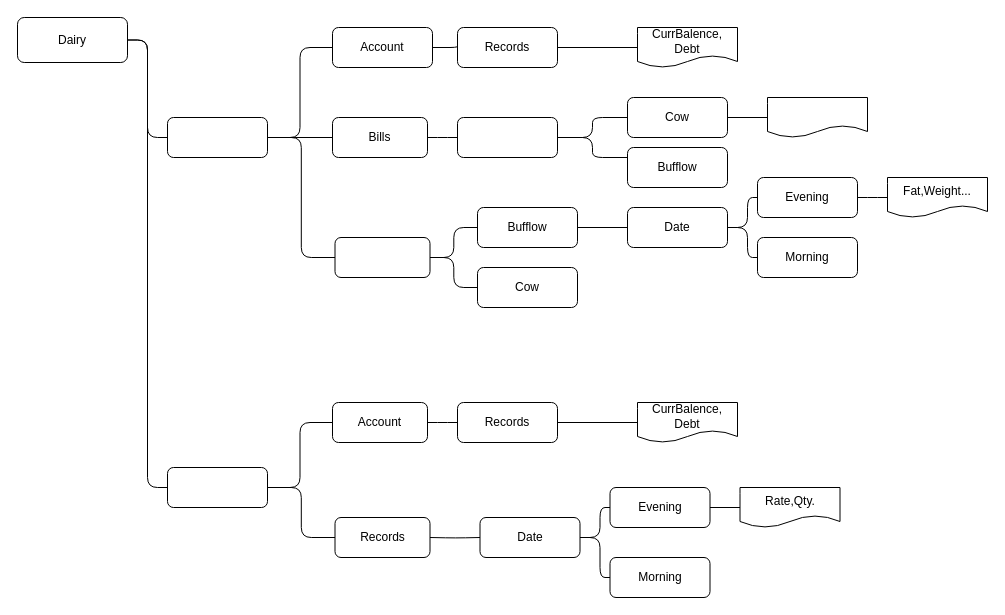
This 1005x615 diagram has some shape labels left out. The shapes that lost their labels are listed below. From the top down, each one's box as (x1, y1, x2, y2) in pixels, then its label:
(166, 116, 268, 158): Farmer
(456, 116, 558, 158): FromDate-ToDate
(766, 96, 868, 138): Total Weight,Cost...
(334, 236, 430, 278): MilkRecords
(166, 466, 268, 508): Milk Buyer
